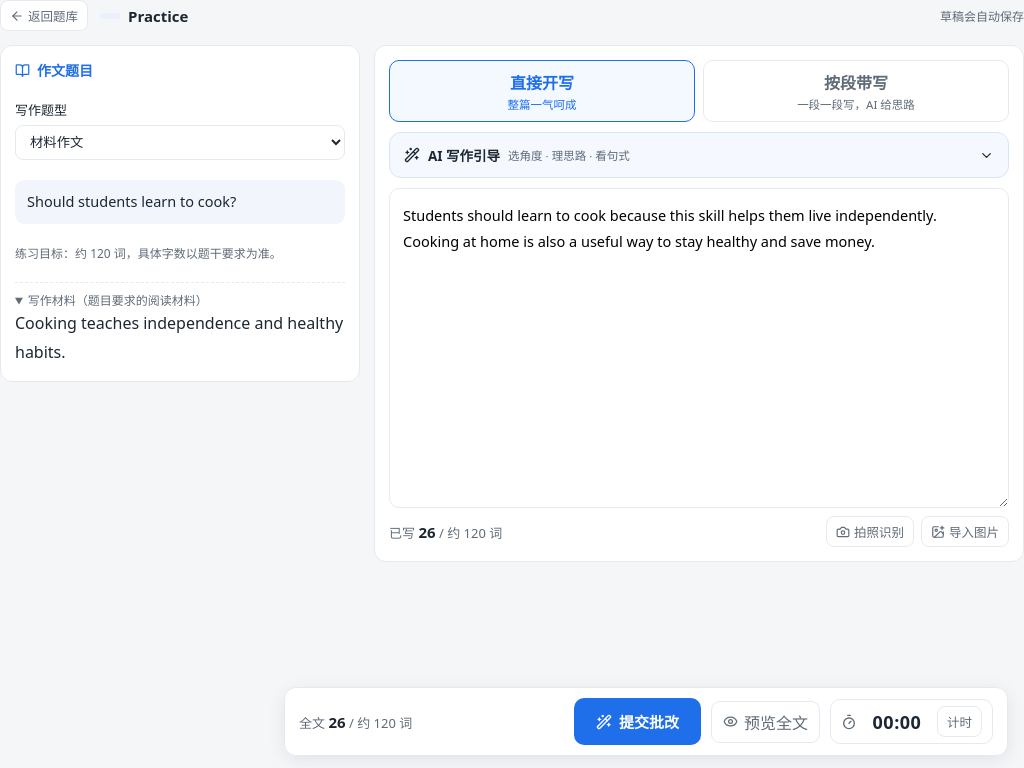
Test: writing workspace › ignores guidance for a topic the user has already left
Click the button "AI 写作引导 选角度 · 理思路 · 看句式".
click(464, 156)  # box [390,133,1008,177]
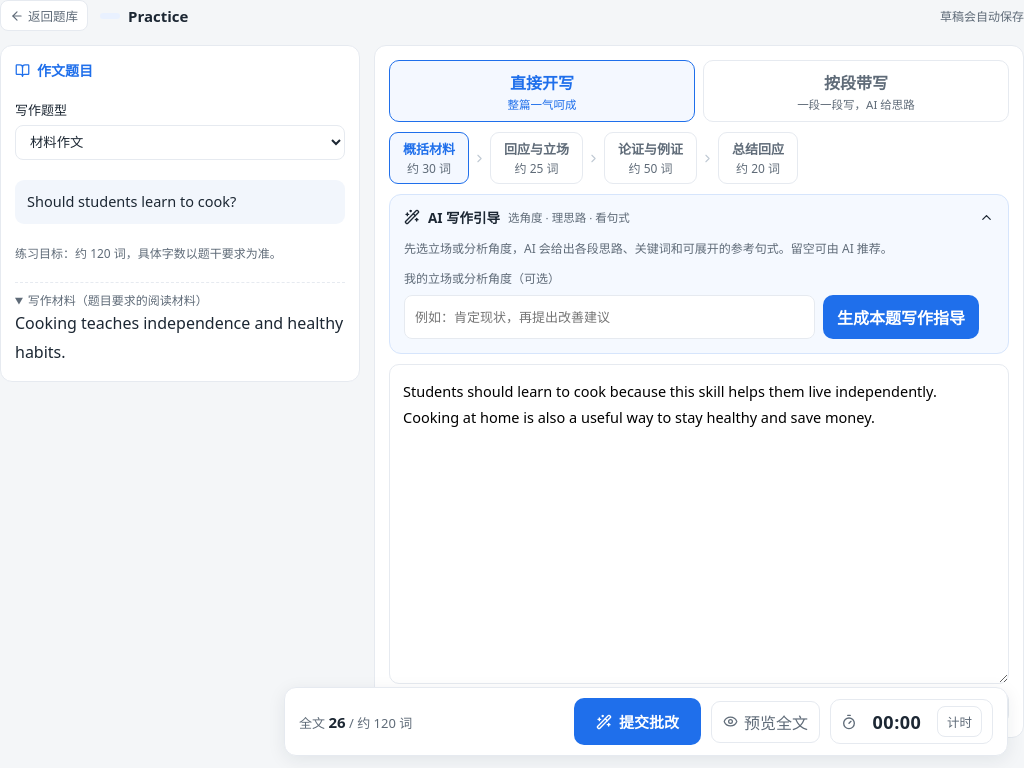
Click the button "生成本题写作指导".
click(901, 317)  # box [823,295,979,339]
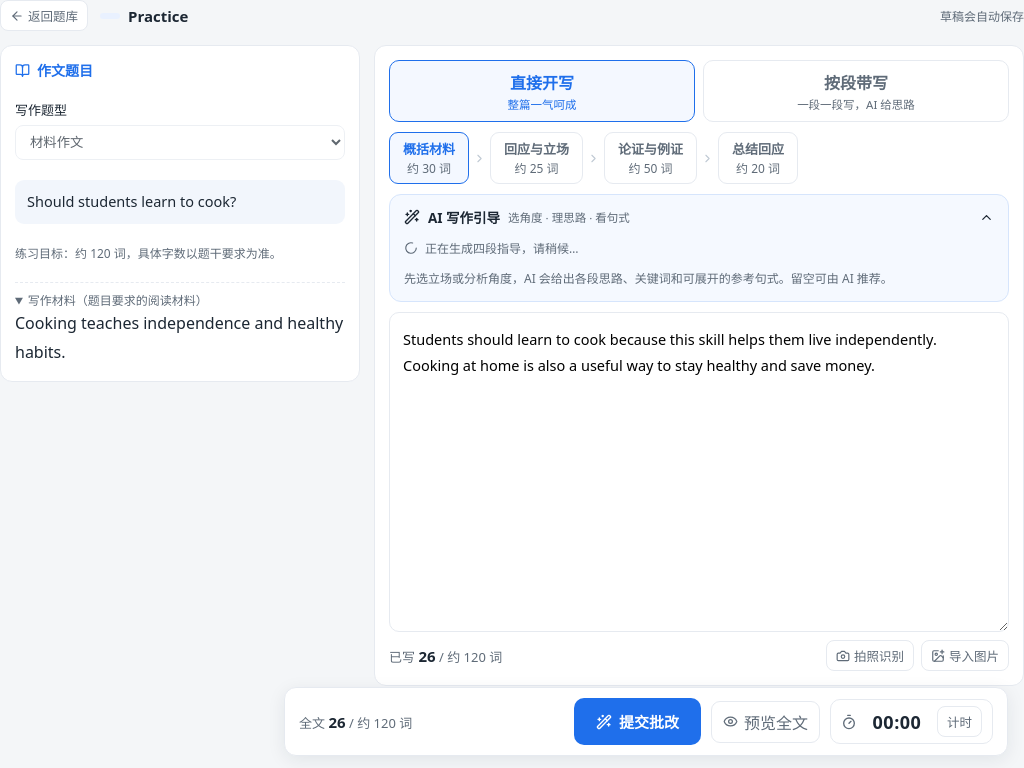
Click the button "返回题库".
click(44, 16)  # box [0,0,88,31]
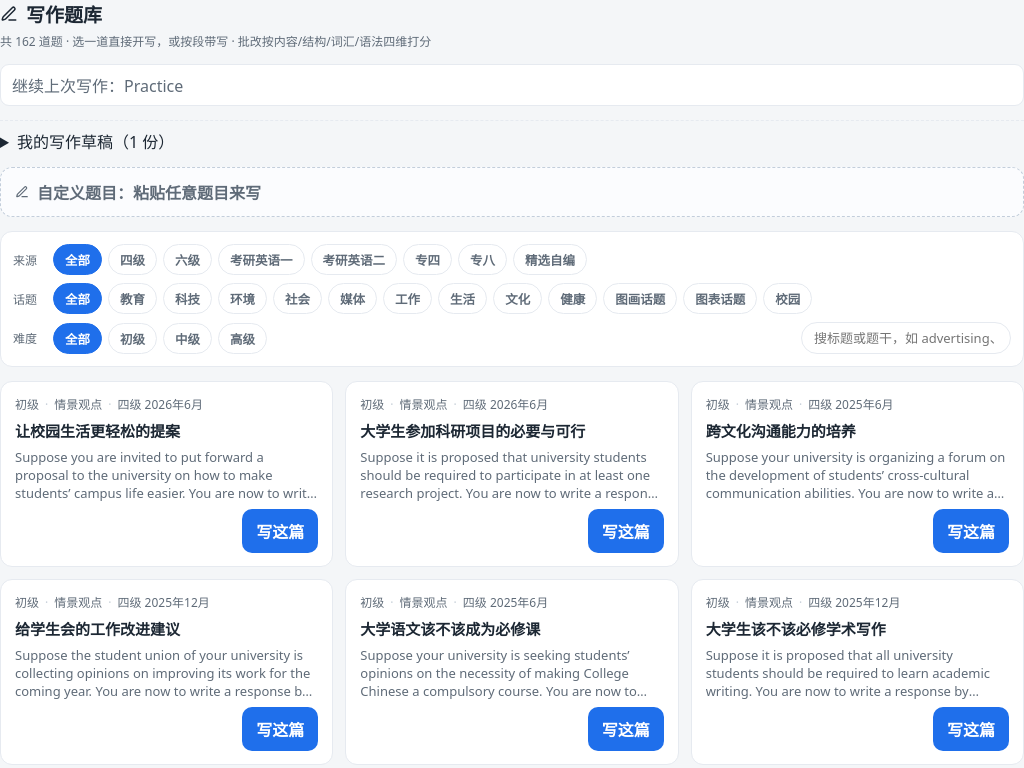
Click the button "写这篇" below "让校园生活更轻松的提案".
click(280, 531)  # box [242,509,318,553]
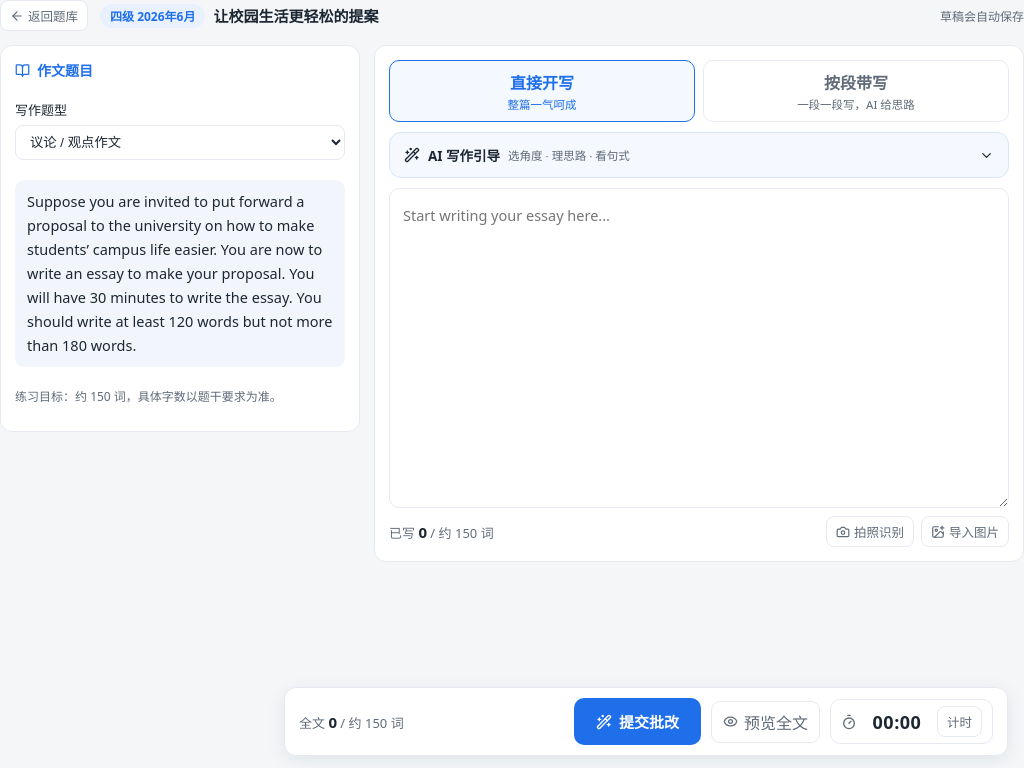
Click the button "AI 写作引导 选角度 · 理思路 · 看句式".
click(464, 156)  # box [390,133,1008,177]
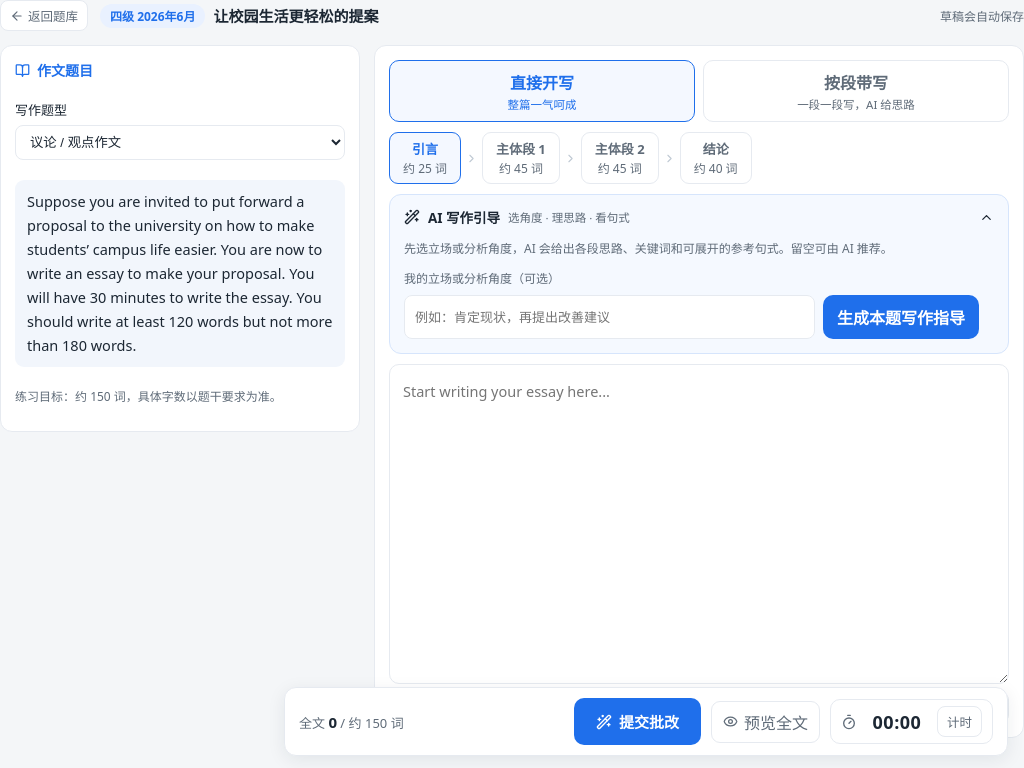
Now the button "生成本题写作指导" is shown, box [823,295,979,339]
